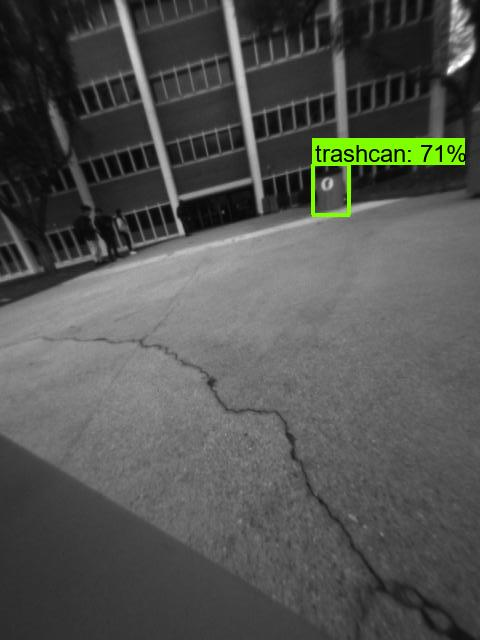trashcan: (313, 166, 349, 212)
